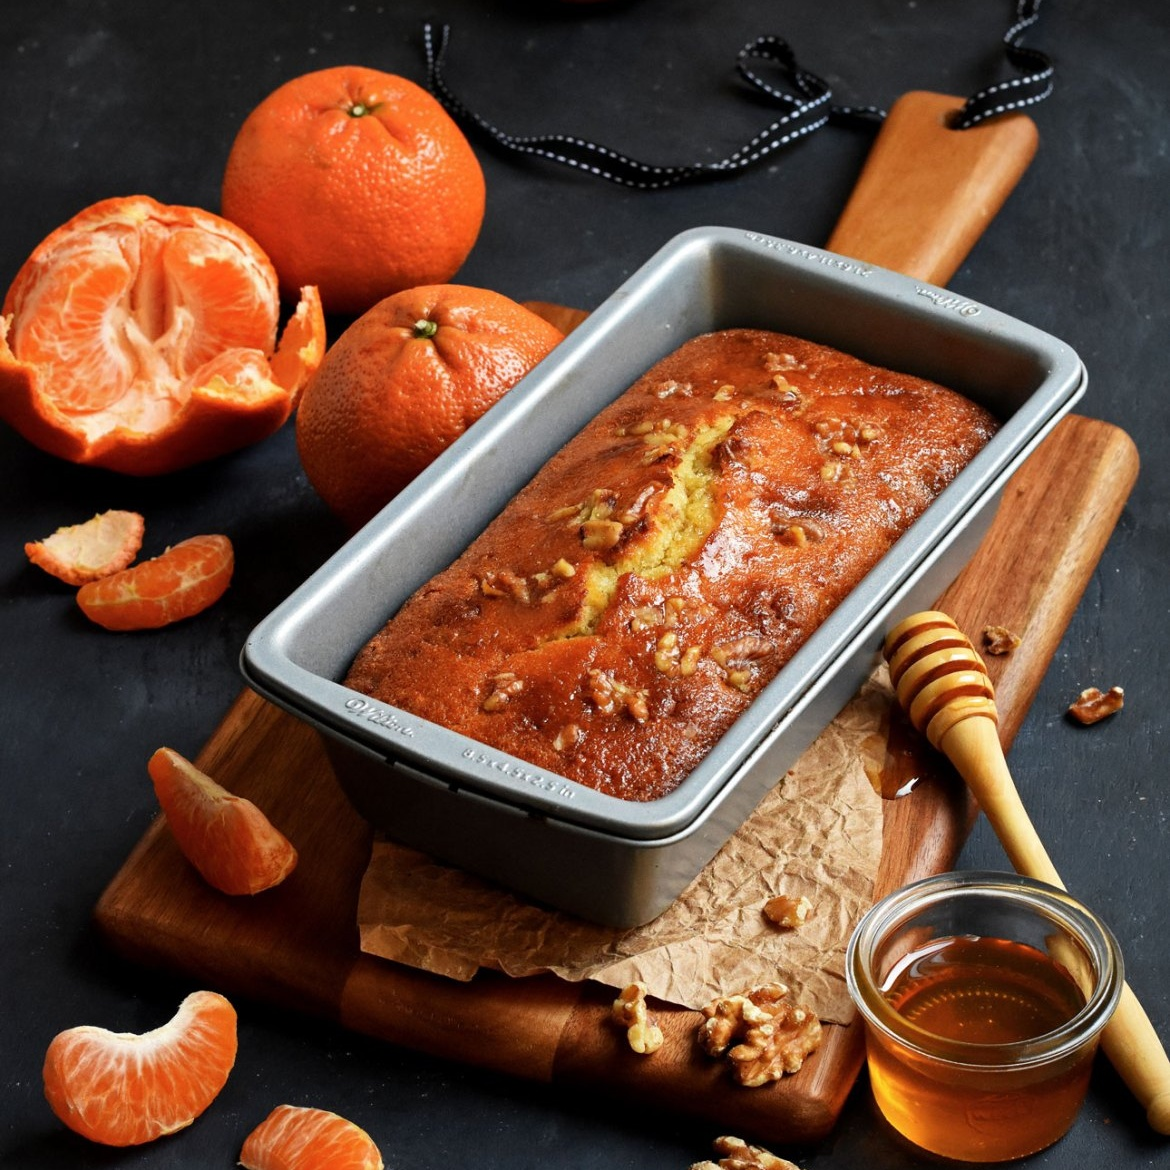mandarin: (1, 201, 285, 474), (291, 288, 587, 536), (222, 64, 486, 294), (45, 992, 238, 1147), (150, 745, 297, 907), (70, 532, 230, 634), (244, 1097, 378, 1170)
